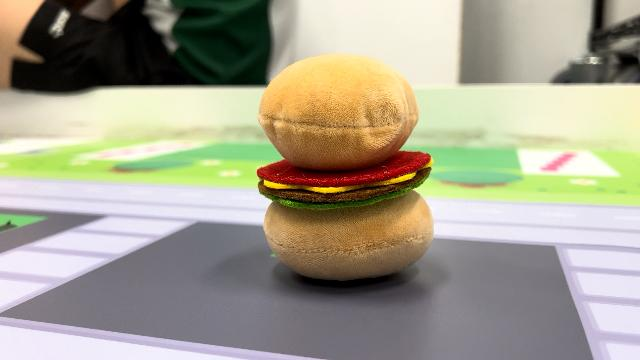burger: (250, 49, 440, 284)
